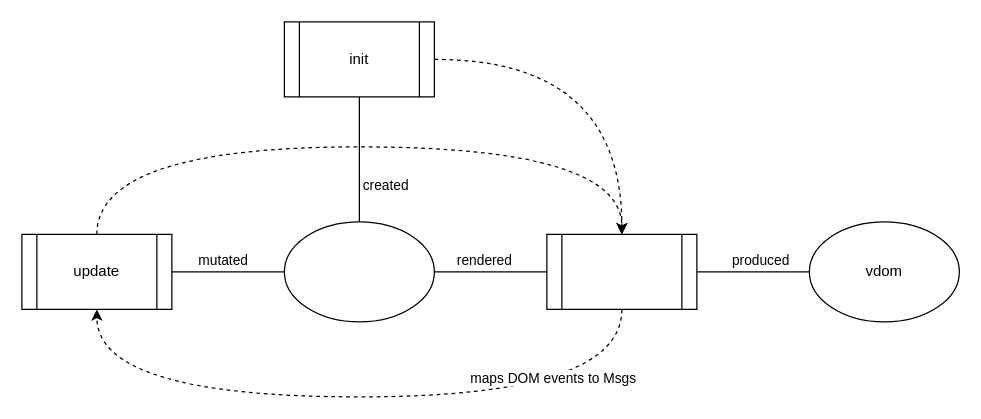
This 981x419 diagram has some shape labels left out. The shapes that lost their labels are listed below. From the top down, each one's centre as x and y in pixels, then its label:
At (x=358, y=271): "Model".
At (x=621, y=271): "view".
